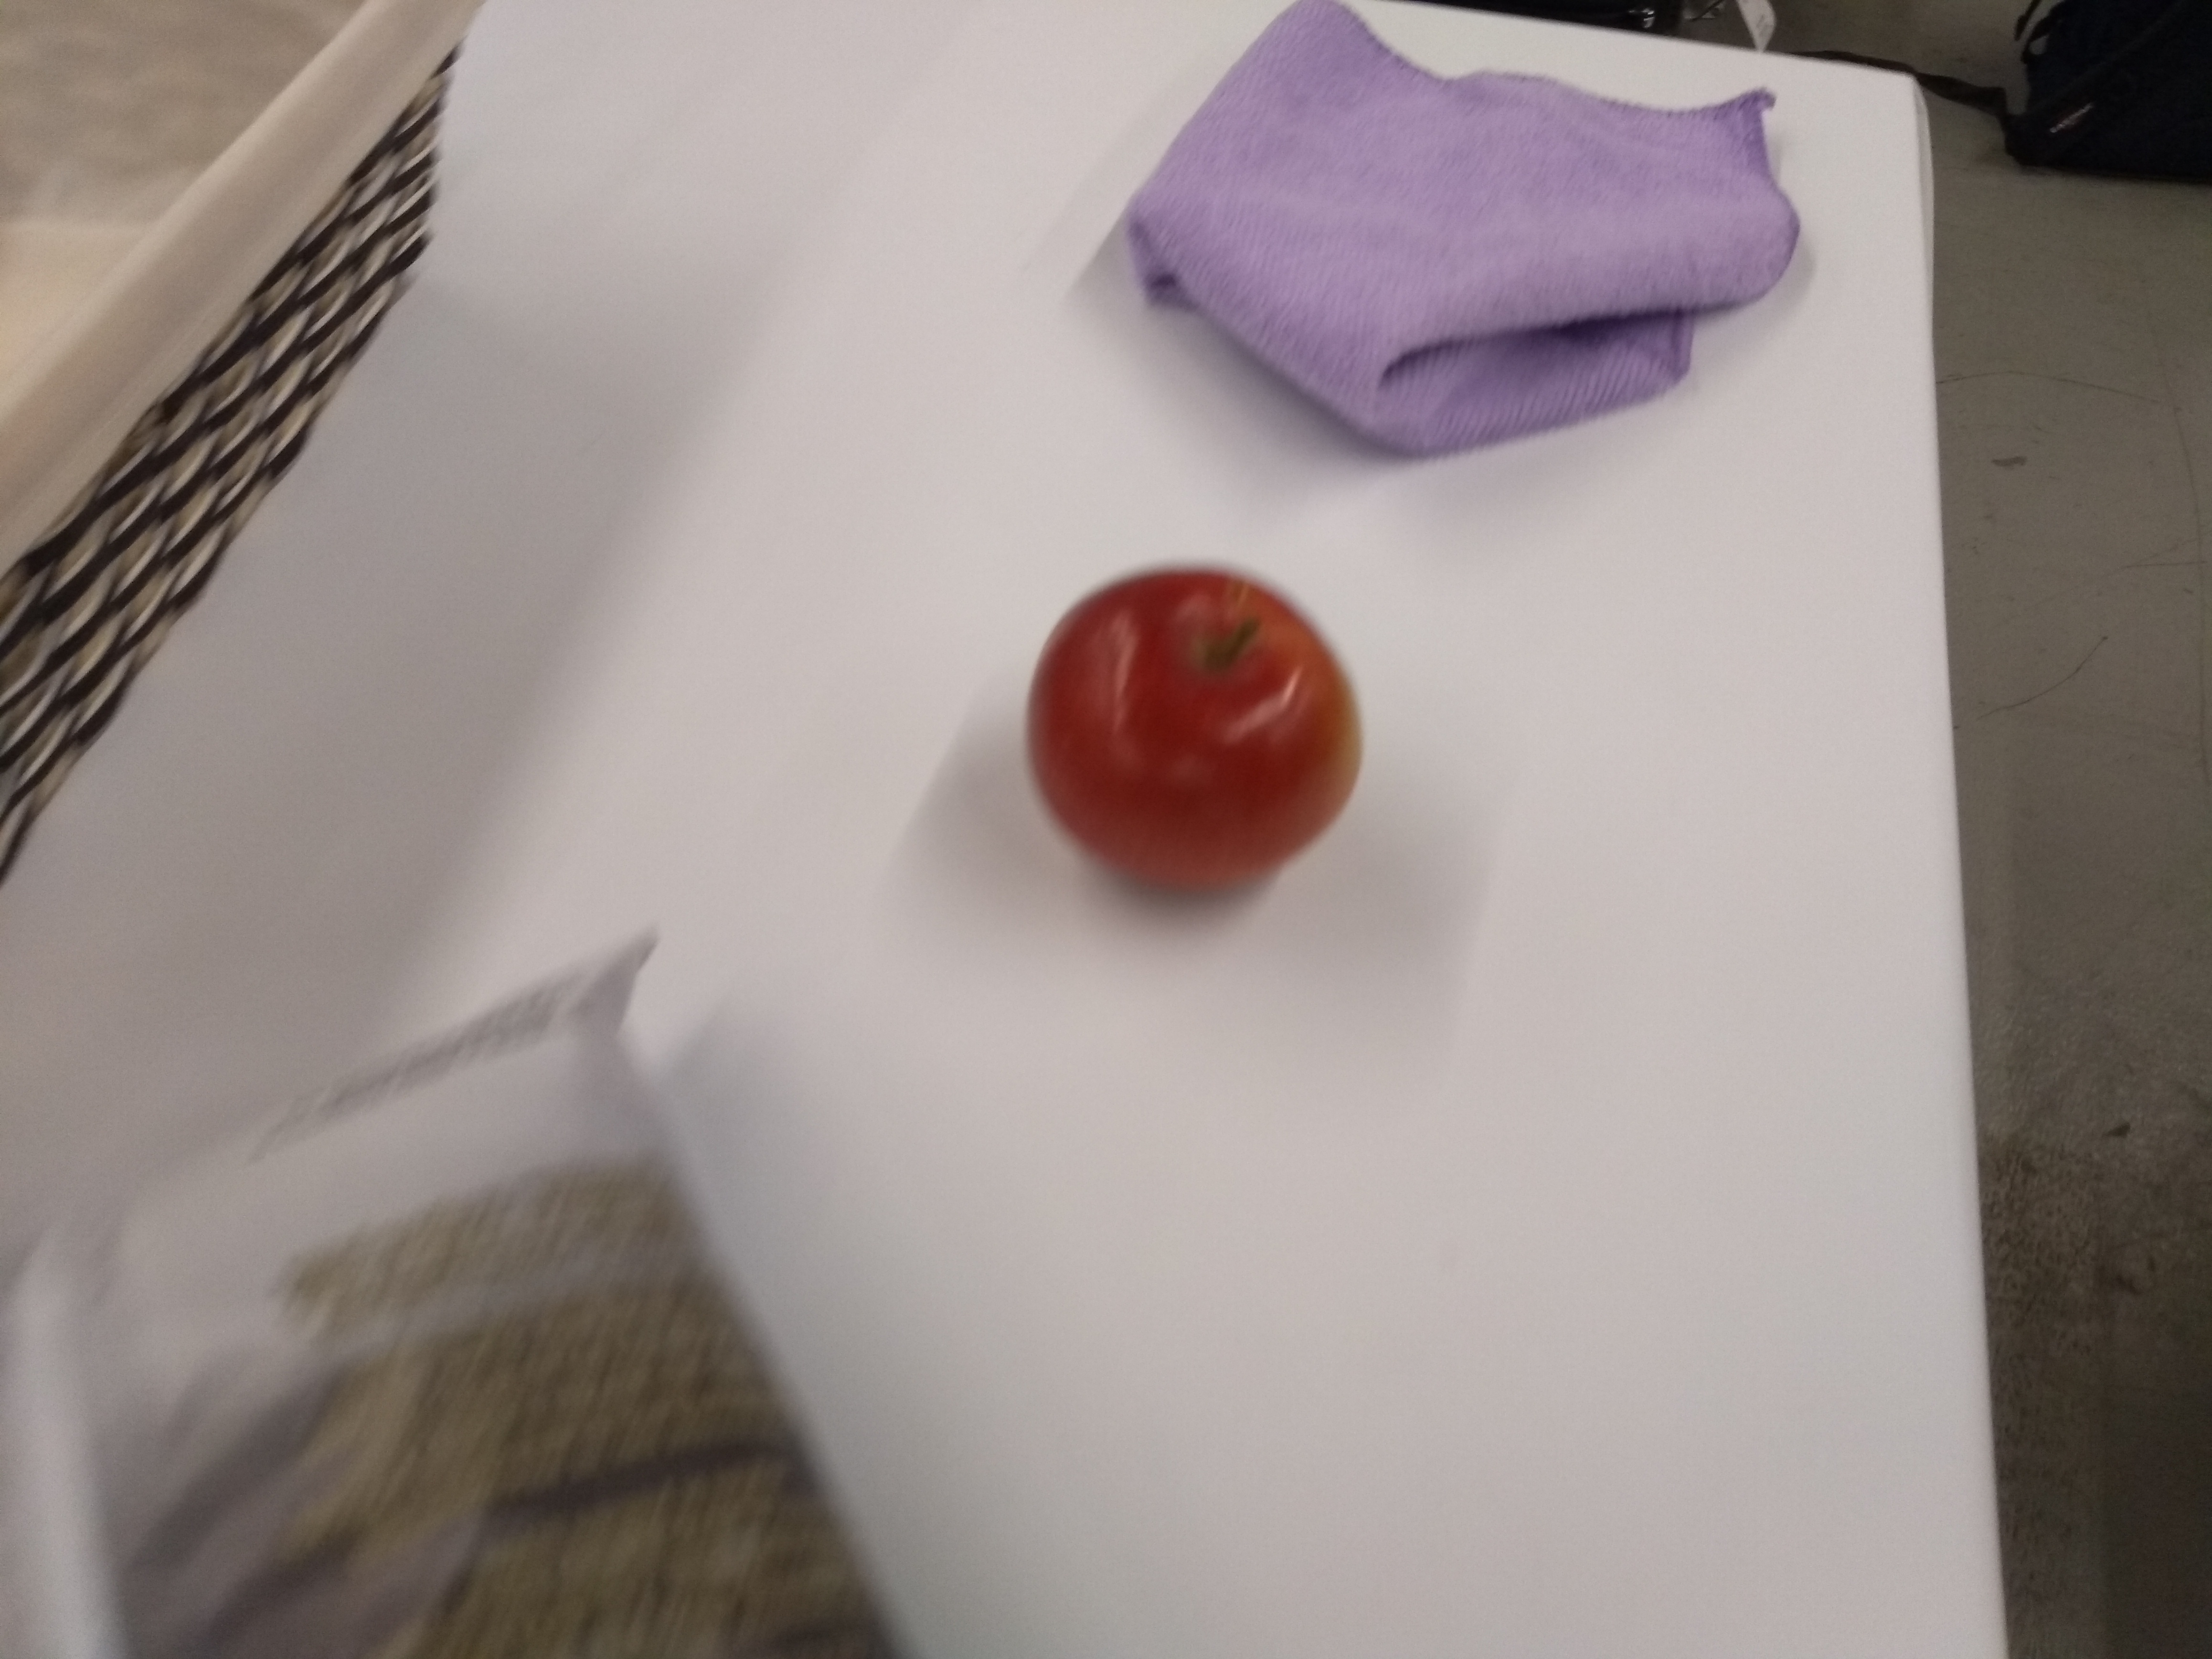apple: (1017, 559, 1388, 897)
cloth_opl: (1125, 0, 1810, 471)
